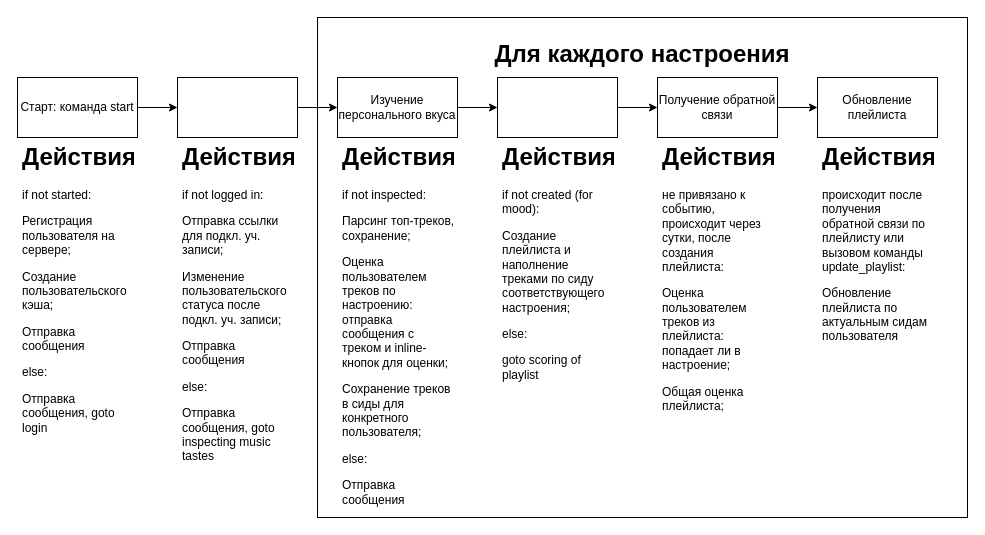
The diagram is 985 pixels wide and 535 high, and some of its shapes have lost their labels. The centre of each missing label's shape, as x and y in pixels:
"Логин" belongs at pixel 237 107.
"Создание плейлиста" belongs at pixel 557 107.
